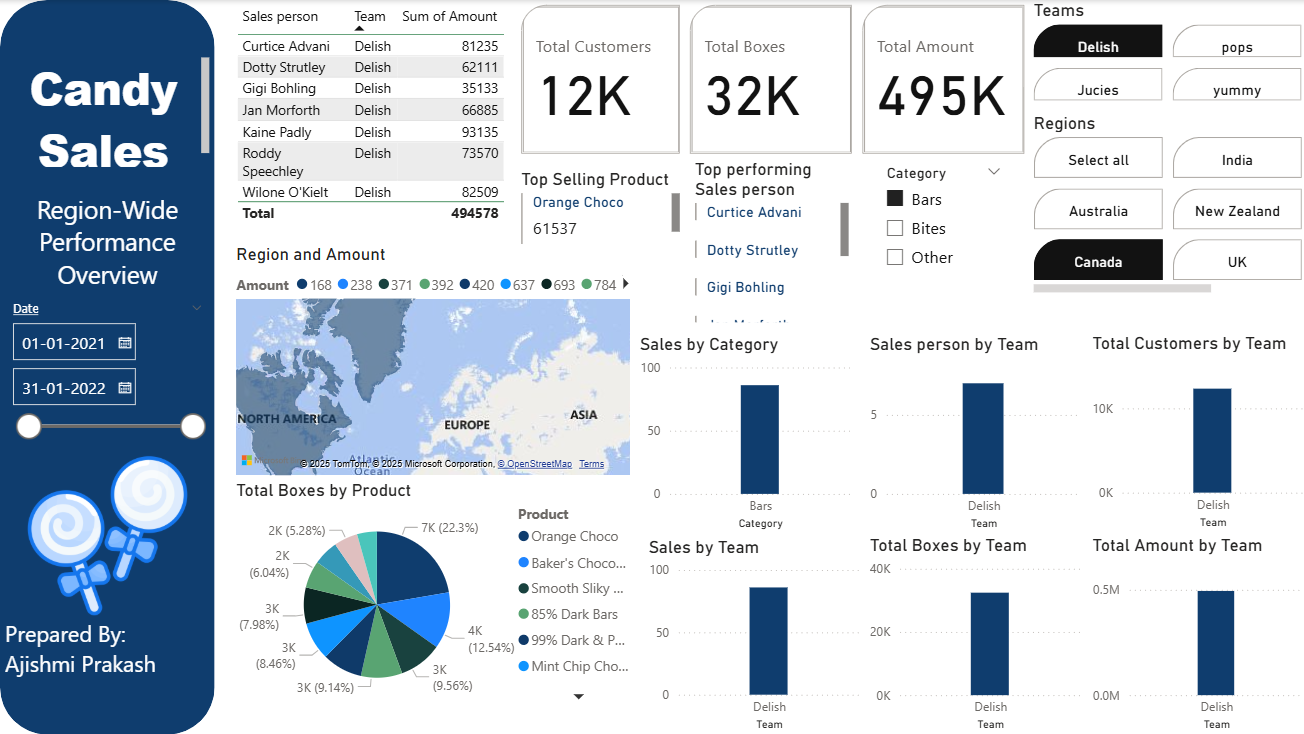

The dashboard page shown, as its layout file describes it:
{"tool":"powerbi","page":{"name":"cany sales","canvas":[1280,720],"ordinal":0},"visuals":[{"type":"columnChart","fields":{"Category":["people.Team"],"Y":["people.Sales person"]},"box":[846.7,326.7,216.7,196.7],"z":0},{"type":"columnChart","fields":{"Category":["people.Team"],"Y":["sales.Amount"]},"box":[1063.3,523.3,216.7,196.7],"z":1000},{"type":"columnChart","fields":{"Category":["people.Team"],"Y":["sales.Customers"]},"box":[1063.3,325,216.7,196.7],"z":2000},{"type":"tableEx","fields":{"Values":["people.Sales person","people.Team","sales.Amount"]},"box":[226.7,0,276.7,226.7],"z":3000},{"type":"advancedSlicerVisual","fields":{"Values":["people.Team"]},"box":[1006.7,0,273.3,103.3],"z":4000},{"type":"columnChart","fields":{"Category":["people.Team"],"Y":["sales.Boxes"]},"box":[846.7,523.3,216.7,196.7],"z":5000},{"type":"pieChart","fields":{"Y":["sales.Boxes"],"Category":["products.Product"]},"box":[226.7,470,403.3,225],"z":6000},{"type":"shape","box":[0,0,210,718.6],"z":8000},{"type":"slicer","fields":{"Values":["sales.Date"]},"box":[0,290,210,141.7],"z":9000},{"type":"cardVisual","fields":{"Data":["sales.Amount"]},"box":[838.6,0,168.6,155.7],"z":10000},{"type":"cardVisual","fields":{"Data":["sales.Boxes"]},"box":[670,0,168.3,155],"z":11000},{"type":"cardVisual","fields":{"Data":["sales.Customers"]},"box":[505,0,165,155],"z":12000},{"type":"filledMap","fields":{"Category":["locations.Region"],"Series":["sales.Amount"]},"box":[226.7,238.3,395,231.7],"z":13000},{"type":"advancedSlicerVisual","fields":{"Values":["locations.Geo"]},"box":[1006.7,110,273.3,183.3],"z":14000},{"type":"slicer","fields":{"Values":["products.Category"]},"box":[855,155,136.7,138.3],"z":15000},{"type":"multiRowCard","title":"Top Selling Product","fields":{"Values":["sales.Amount","products.Product"]},"box":[505,165,165,78.3],"z":16000},{"type":"multiRowCard","title":"Top performing Sales person","fields":{"Values":["people.Sales person"]},"box":[675,155,160,165],"z":17000},{"type":"columnChart","fields":{"Category":["people.Team"],"Y":["sales"]},"box":[630,525,216.7,195],"z":17001},{"type":"columnChart","fields":{"Category":["products.Category"],"Y":["sales"]},"box":[621.7,326.7,216.7,196.7],"z":17002},{"type":"textbox","box":[0,51.7,210,116.7],"z":17003},{"type":"textbox","box":[0,183.3,210,110],"z":17004},{"type":"textbox","box":[0,600,210,95],"z":17005},{"type":"image","box":[21.7,438.3,166.7,173.3],"z":17006}]}

Visuals, with their boxes in screenshot pixels (x1, y1, x2, y2), scaled from the page's 1280x720 canvas onto the 1304x734 screenshot:
columnChart - people.Team x people.Sales person: rect(863, 333, 1083, 534)
columnChart - people.Team x sales.Amount: rect(1083, 533, 1303, 733)
columnChart - people.Team x sales.Customers: rect(1083, 331, 1303, 532)
tableEx - people.Sales person x people.Team: rect(231, 0, 513, 231)
advancedSlicerVisual - people.Team: rect(1026, 0, 1303, 105)
columnChart - people.Team x sales.Boxes: rect(863, 533, 1083, 733)
pieChart - sales.Boxes x products.Product: rect(231, 479, 642, 709)
shape: rect(0, 0, 214, 733)
slicer - sales.Date: rect(0, 296, 214, 440)
cardVisual - sales.Amount: rect(854, 0, 1026, 159)
cardVisual - sales.Boxes: rect(683, 0, 854, 158)
cardVisual - sales.Customers: rect(514, 0, 683, 158)
filledMap - locations.Region x sales.Amount: rect(231, 243, 633, 479)
advancedSlicerVisual - locations.Geo: rect(1026, 112, 1303, 299)
slicer - products.Category: rect(871, 158, 1010, 299)
"Top Selling Product" multiRowCard: rect(514, 168, 683, 248)
"Top performing Sales person" multiRowCard: rect(688, 158, 851, 326)
columnChart - people.Team x sales: rect(642, 535, 863, 733)
columnChart - products.Category x sales: rect(633, 333, 854, 534)
textbox: rect(0, 53, 214, 172)
textbox: rect(0, 187, 214, 299)
textbox: rect(0, 612, 214, 709)
image: rect(22, 447, 192, 623)
